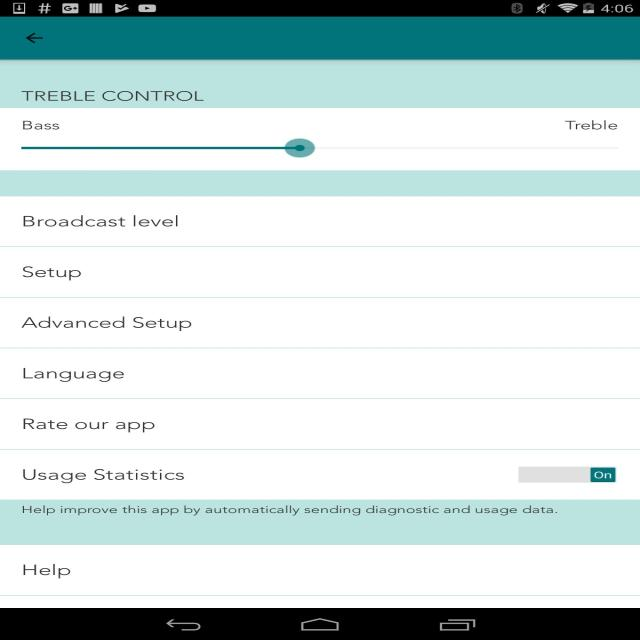button: (1, 544, 639, 594), (0, 196, 637, 246), (0, 349, 637, 399), (1, 400, 637, 450), (3, 450, 638, 500), (0, 247, 637, 296), (0, 298, 639, 346), (19, 136, 627, 160), (516, 465, 618, 485), (19, 28, 50, 50)
heading: (18, 85, 206, 106)
text: (19, 503, 558, 518), (19, 315, 195, 333), (16, 212, 184, 230), (19, 466, 187, 484), (21, 418, 156, 434), (20, 366, 126, 382), (19, 264, 83, 282), (21, 562, 71, 580), (564, 118, 620, 132), (19, 120, 62, 132)
